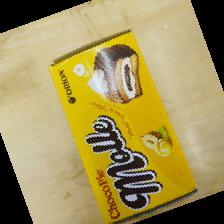Molle: (47, 29, 198, 224)
